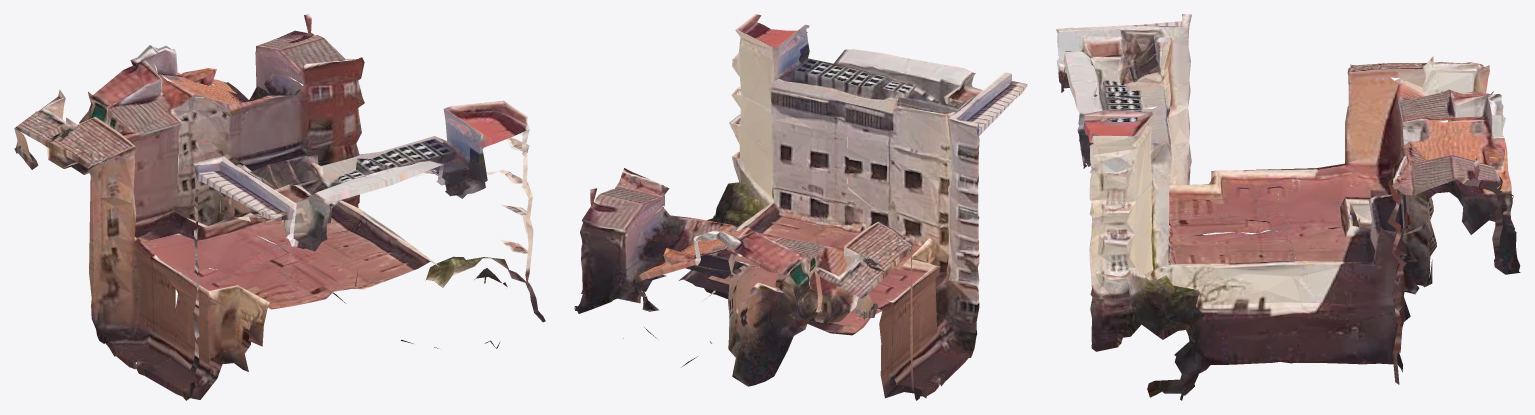
3 renders of one model, left to right at view 1: azimuth 30°, elevation 25°; view 2: azimuth 150°, elevation 25°; view 3: azimuth 270°, elevation 25°, orthographic. The views are drawn at different scales.
Visible parts, largest first — view 1: Mesh_0; view 2: Mesh_0; view 3: Mesh_0.
Part boxes in pixels (<box>): Mesh_0: <box>14,14,545,400</box>; Mesh_0: <box>574,14,1027,400</box>; Mesh_0: <box>1056,14,1520,400</box>.
Bounding box in the file's own units: 33.31 × 25.64 × 41.38.
Materials: 2 (2 with a texture image).
